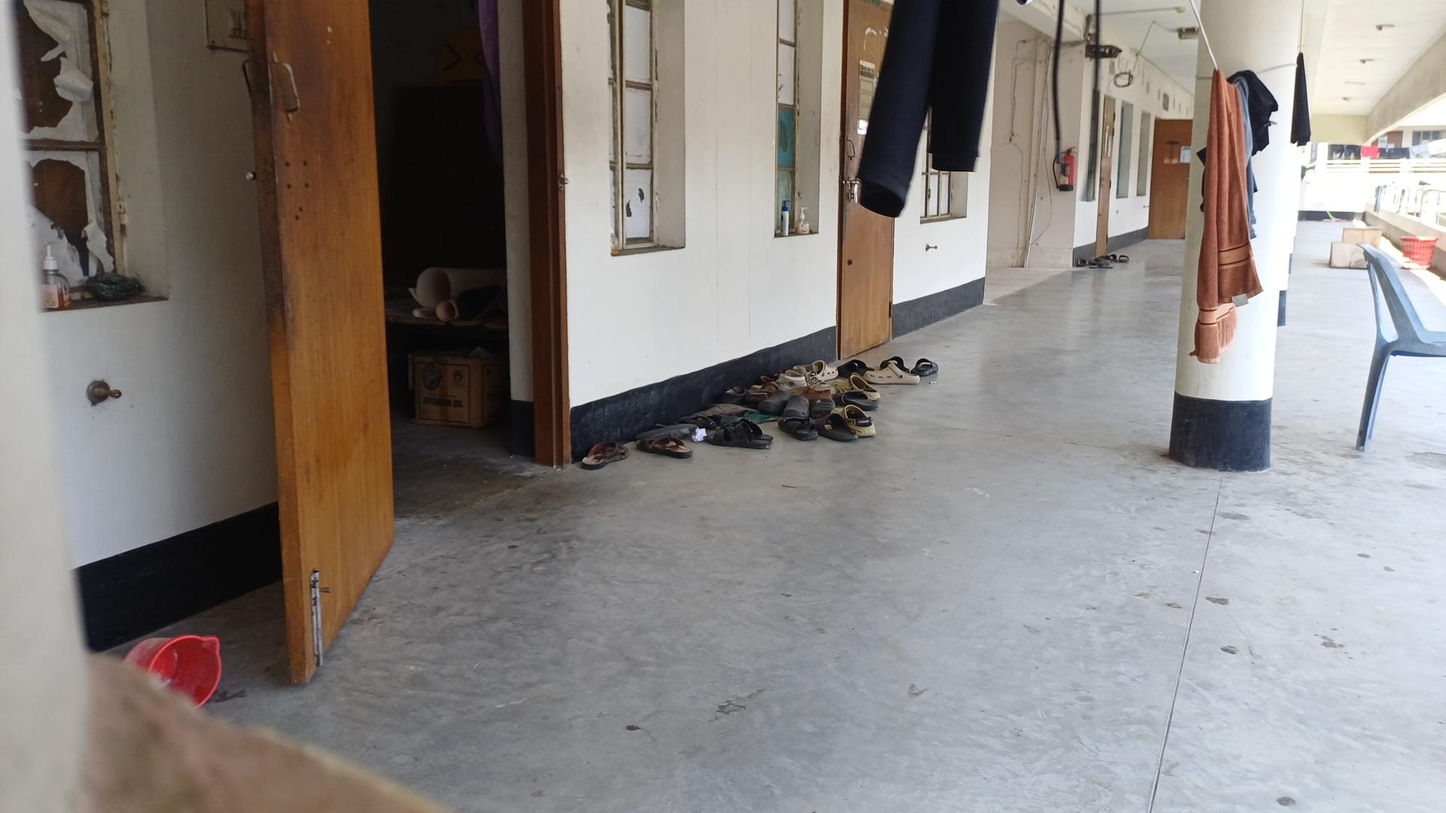Basket: (1391, 212, 1441, 276)
Box: (416, 351, 492, 420)
Chair: (1331, 231, 1442, 459)
Door: (217, 0, 619, 596), (1143, 110, 1190, 249)
Footwear: (776, 409, 851, 449), (710, 401, 755, 456)
Mug: (121, 617, 231, 716)
